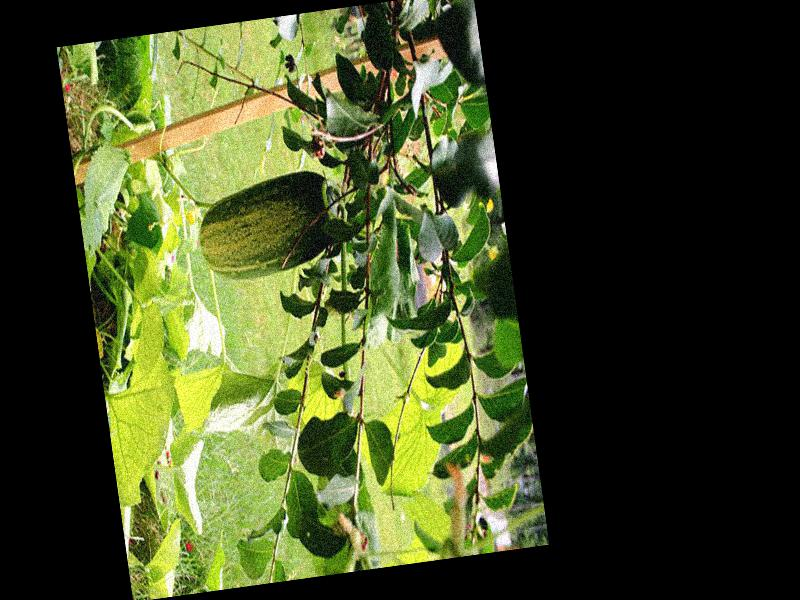Cucumber: (191, 164, 352, 282)
